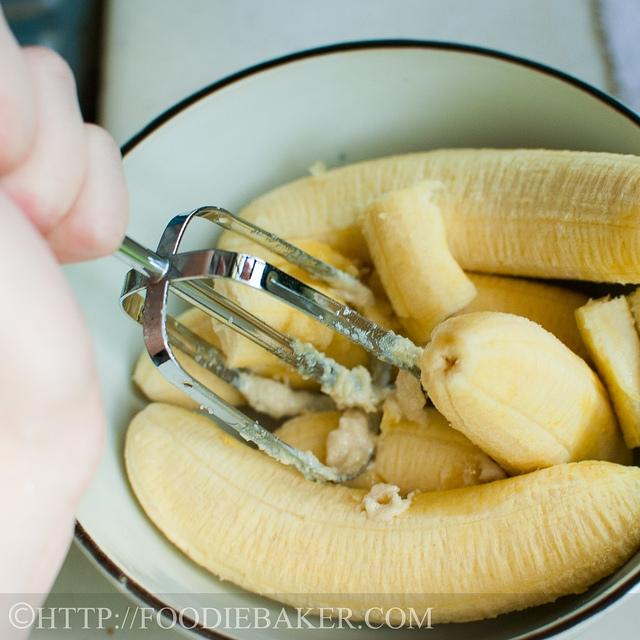banana: (124, 404, 638, 625), (238, 148, 640, 284), (421, 310, 634, 474), (212, 239, 362, 382), (357, 180, 479, 344), (446, 272, 602, 379), (330, 408, 496, 499), (573, 294, 640, 450), (235, 372, 340, 416), (324, 412, 380, 474), (394, 368, 429, 430)
